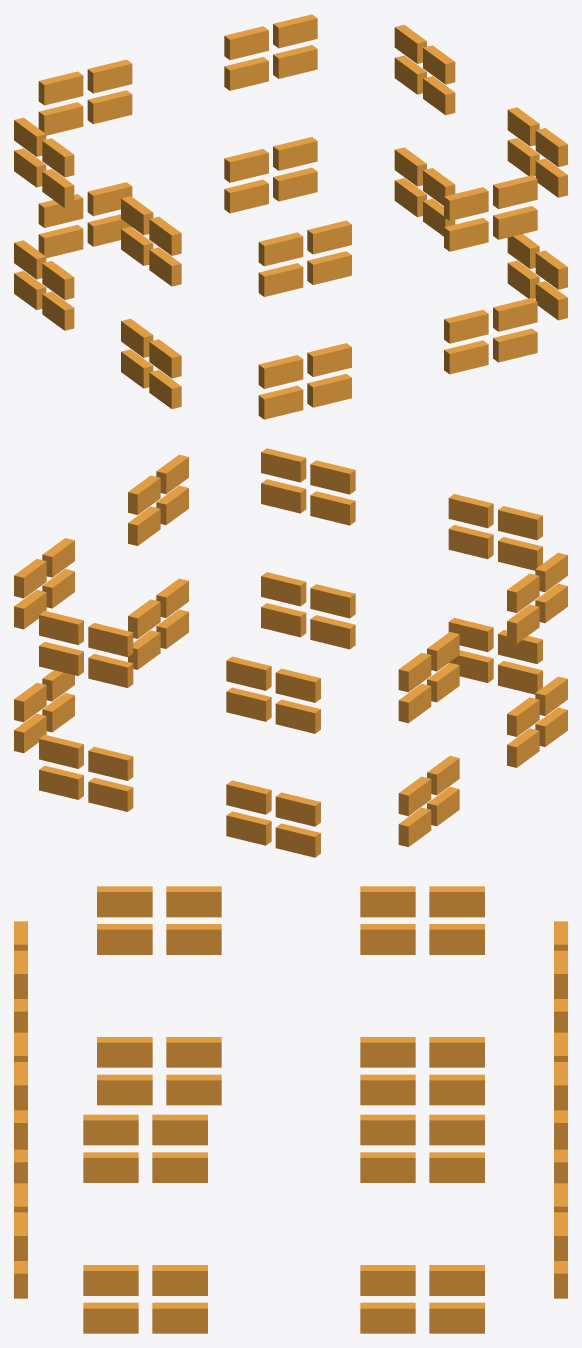
File: house-1.obj
3 views of the same model, one above another, from view 1: azimuth 30°, elevation 25°; view 2: azimuth 150°, elevation 25°; view 3: azimuth 270°, elevation 25° (orthographic). The views are drawn at different scales.
Visible parts, largest first — view 1: house-1; view 2: house-1; view 3: house-1.
Boxes of the visible parts, x1,y1,x2,y2 form: house-1: (14,14,567,419); house-1: (14,448,567,857); house-1: (14,886,567,1333).
Size of the model in its own units: 40 by 17 by 40.
Materials: 1 (1 with a texture image).
